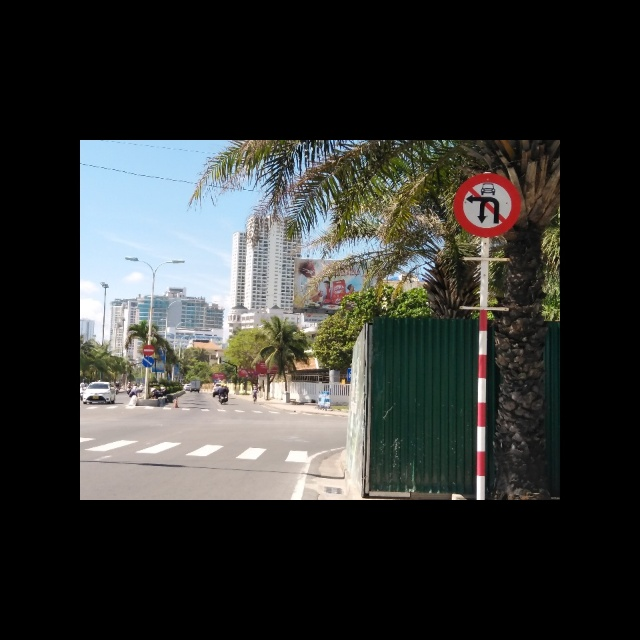Cấm xe ô tô quay đầu và rẽ trái: (452, 170, 520, 238)
